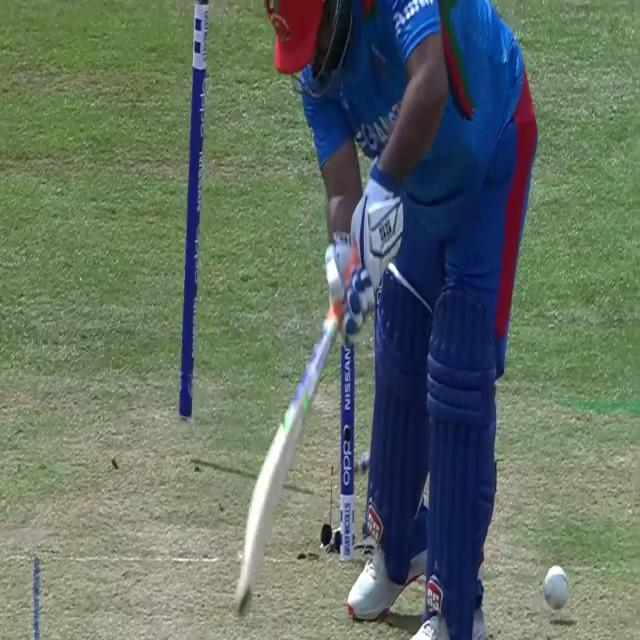ball: (542, 566, 570, 612)
